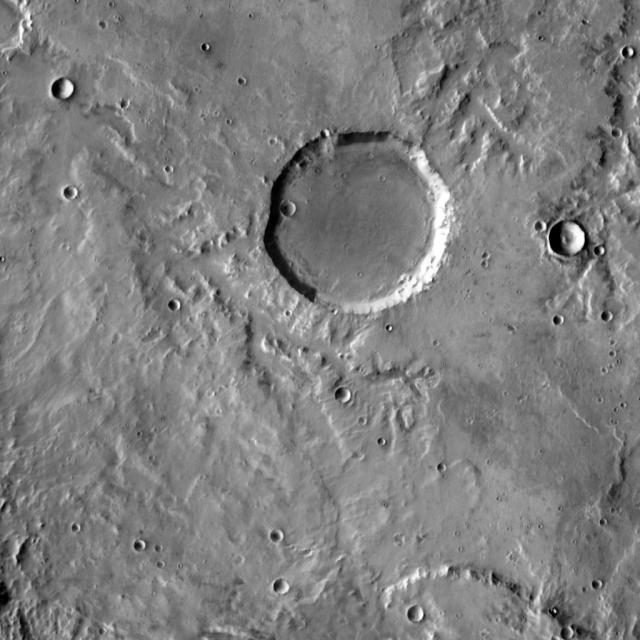crater: (266, 131, 452, 316), (549, 222, 585, 257), (52, 79, 75, 102), (279, 200, 297, 218), (408, 608, 425, 624), (273, 578, 289, 594), (561, 626, 575, 640), (336, 389, 350, 403), (65, 187, 79, 201), (290, 617, 304, 631), (270, 530, 283, 542), (623, 46, 636, 58), (553, 313, 565, 325), (170, 300, 182, 312), (96, 284, 108, 296), (595, 245, 606, 256), (135, 541, 146, 552), (612, 127, 623, 138), (602, 310, 612, 322), (535, 221, 545, 232), (593, 581, 603, 591), (72, 522, 82, 532), (353, 452, 363, 462), (121, 100, 131, 110), (113, 333, 123, 343), (438, 464, 447, 474), (393, 536, 402, 546), (99, 21, 109, 30), (320, 130, 330, 138), (238, 76, 246, 84), (262, 128, 270, 136), (166, 164, 174, 172), (377, 438, 385, 446), (358, 418, 366, 426), (482, 253, 490, 261), (157, 562, 165, 570), (92, 622, 100, 630), (508, 323, 516, 331), (378, 319, 386, 326), (156, 546, 163, 554), (603, 342, 610, 350), (196, 36, 203, 43), (475, 254, 482, 261), (552, 634, 560, 640), (596, 360, 602, 367), (594, 512, 601, 518)
